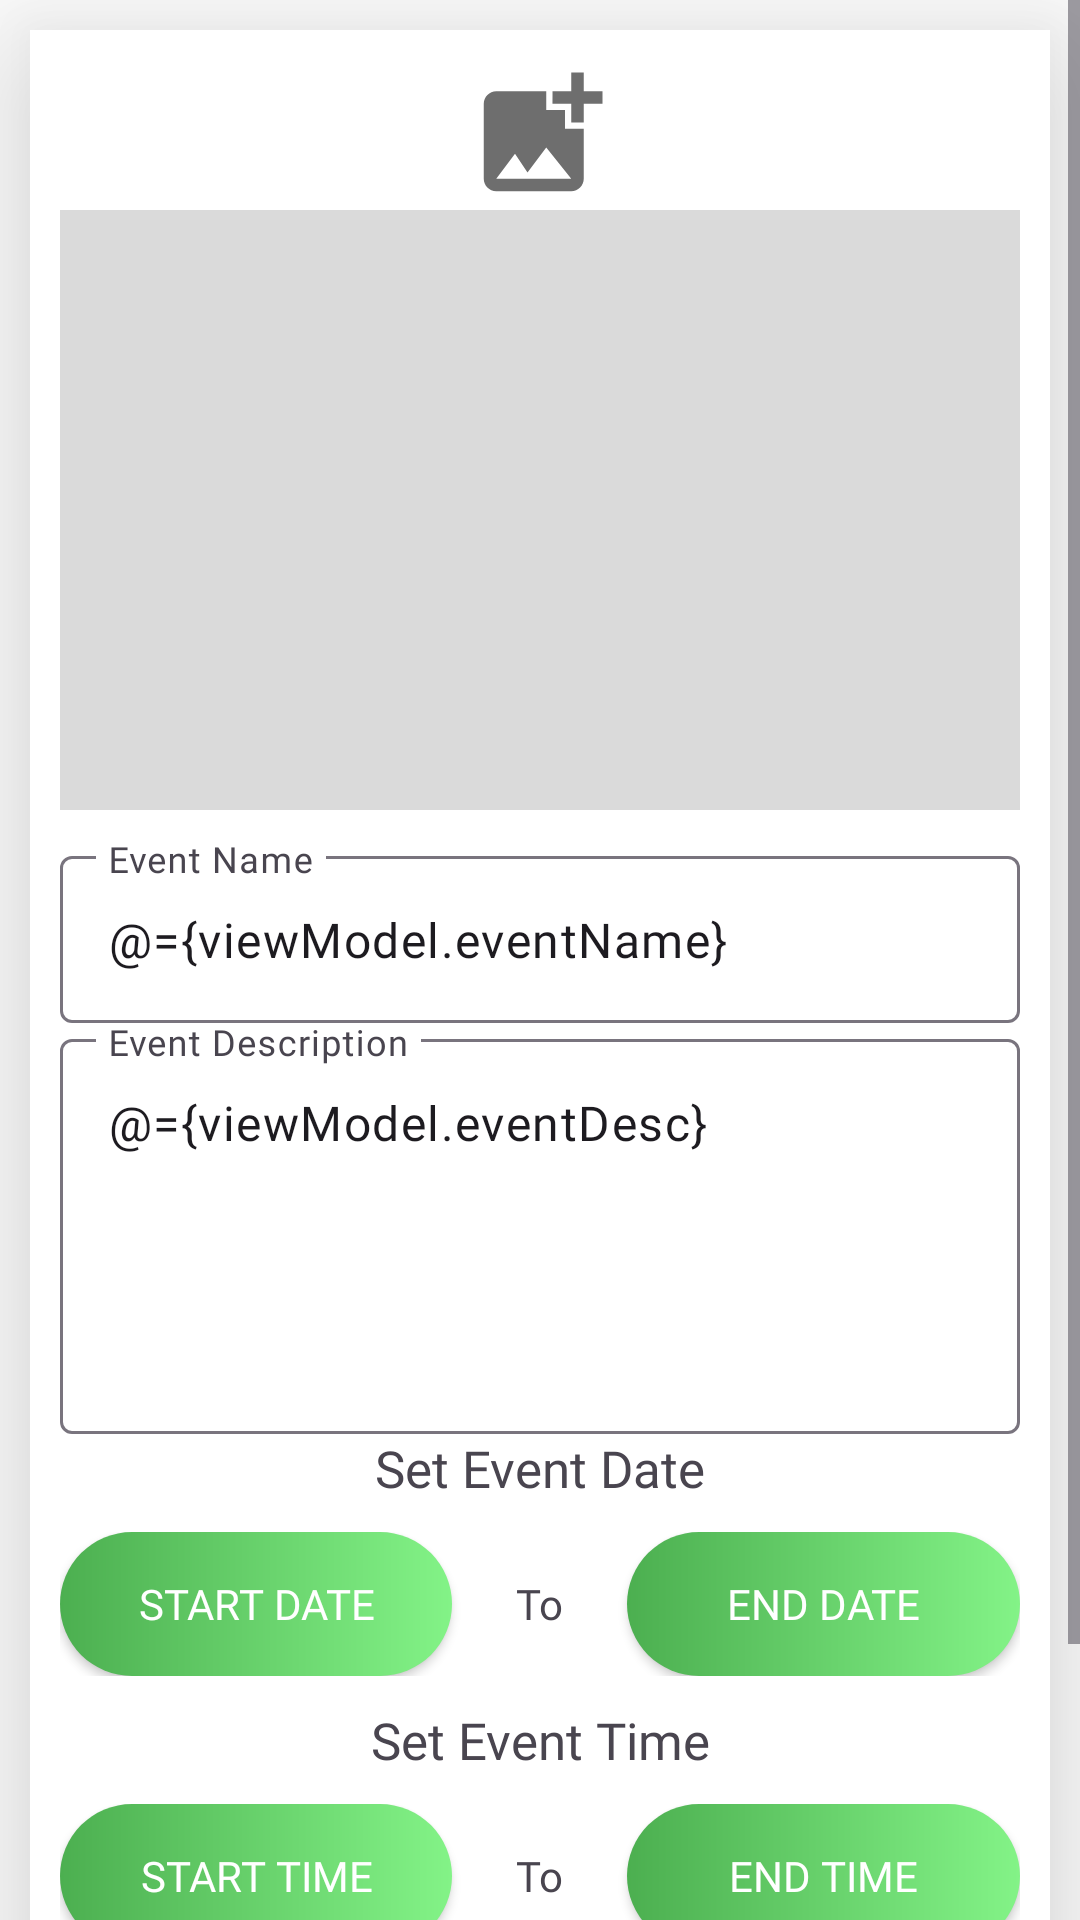

Where to tap for icons on this 1080 x 1920 app screen, as point (x, y):
add photo alternate: point (543, 132)
